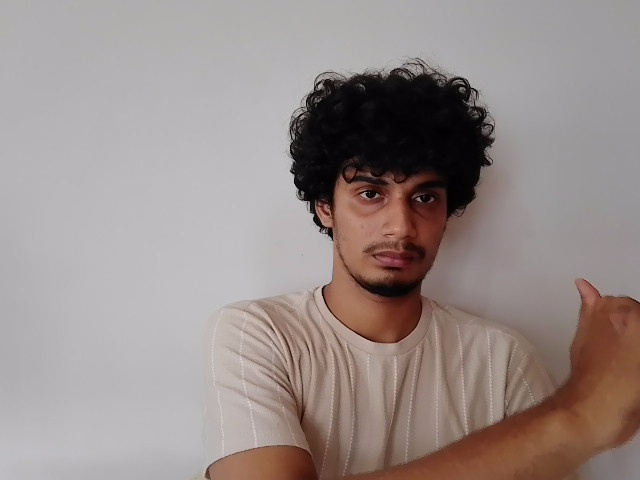how: (566, 275, 640, 439)
